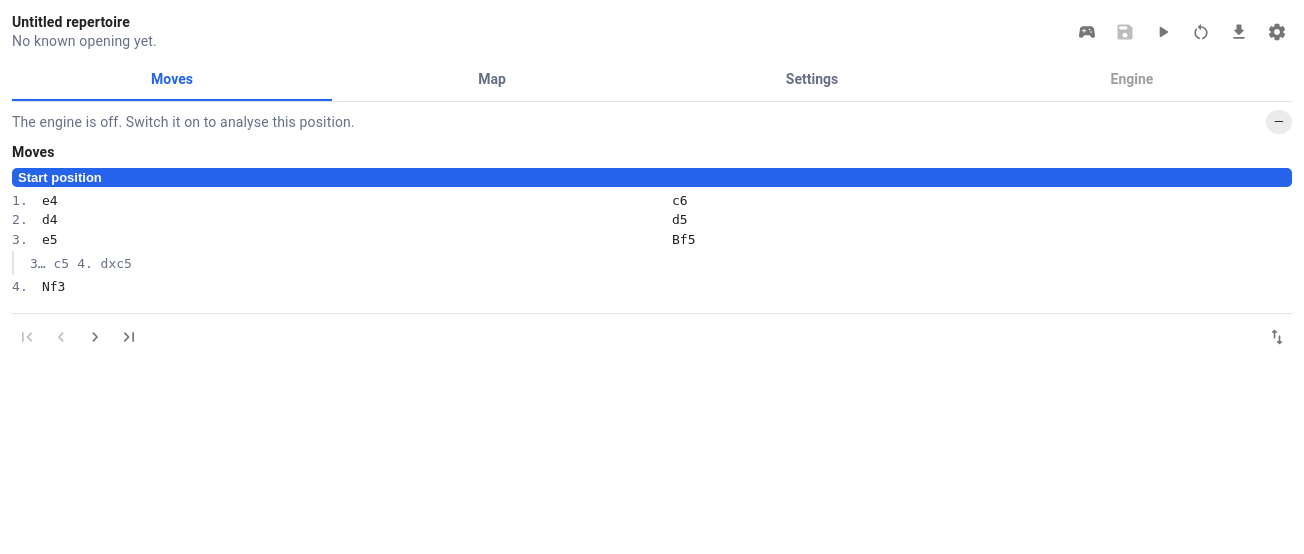
it: the repertoire player, Autoplay on › opens without arrows when the repertoire's settings say so, and so does a game
Click the tab with test id "repertoire-board-panel-tab-settings" at point(812, 80), box x1=652 y1=59 x2=972 y2=101
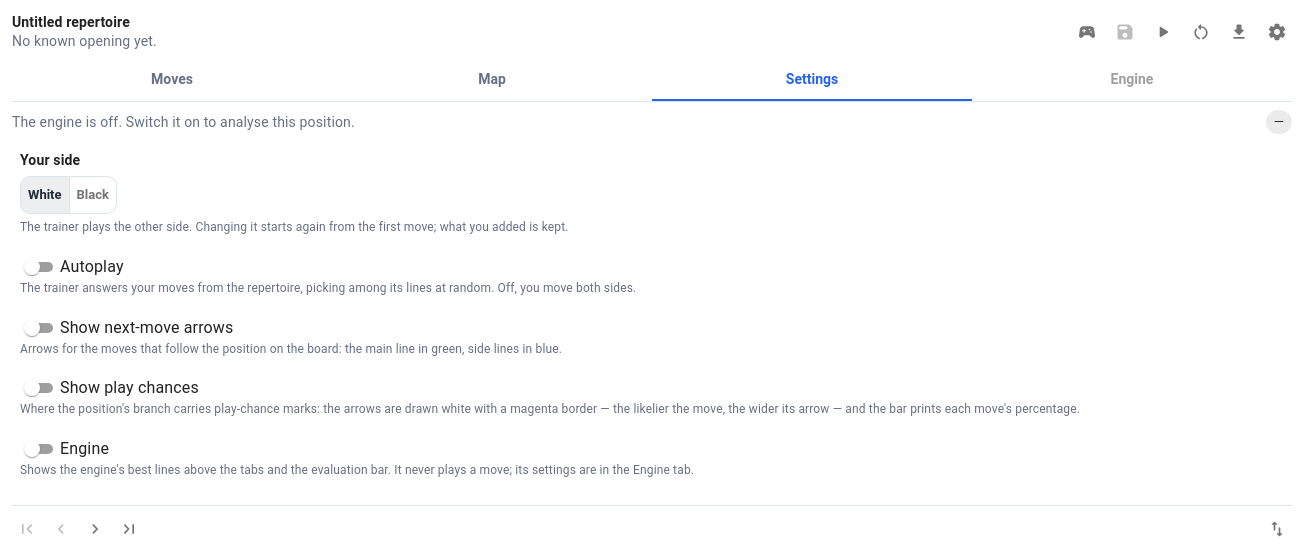
Expected: the switch labelled "Show next-move arrows" is not checked, x1=20 y1=316 x2=233 y2=340
